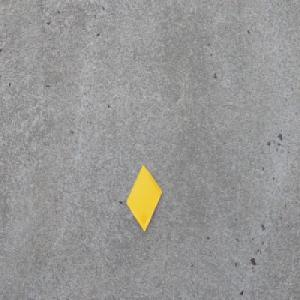PlasticPart: (125, 164, 162, 233)
